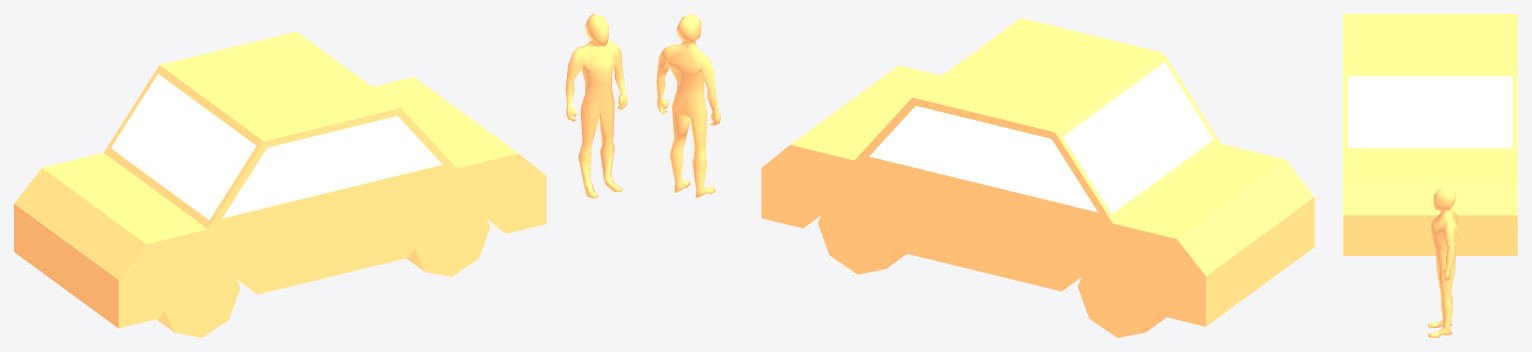
File: BL_CarMan_01.fbx
The picture shows the model from 3 angles, left to right: view 1: azimuth 30°, elevation 25°; view 2: azimuth 150°, elevation 25°; view 3: azimuth 270°, elevation 25°; orthographic projection. The views are drawn at different scales.
Visible parts, largest first — view 1: SM_Car, SM_Man; view 2: SM_Car, SM_Man; view 3: SM_Car, SM_Man.
Boxes of the visible parts, left/top/right/bottom form: SM_Car: left=14, top=31, right=546, bottom=337; SM_Man: left=565, top=14, right=627, bottom=198; SM_Car: left=761, top=18, right=1314, bottom=337; SM_Man: left=656, top=14, right=720, bottom=197; SM_Car: left=1343, top=14, right=1517, bottom=255; SM_Man: left=1427, top=187, right=1458, bottom=337.
Bounding box in the file's own units: 716 × 225 × 227.
